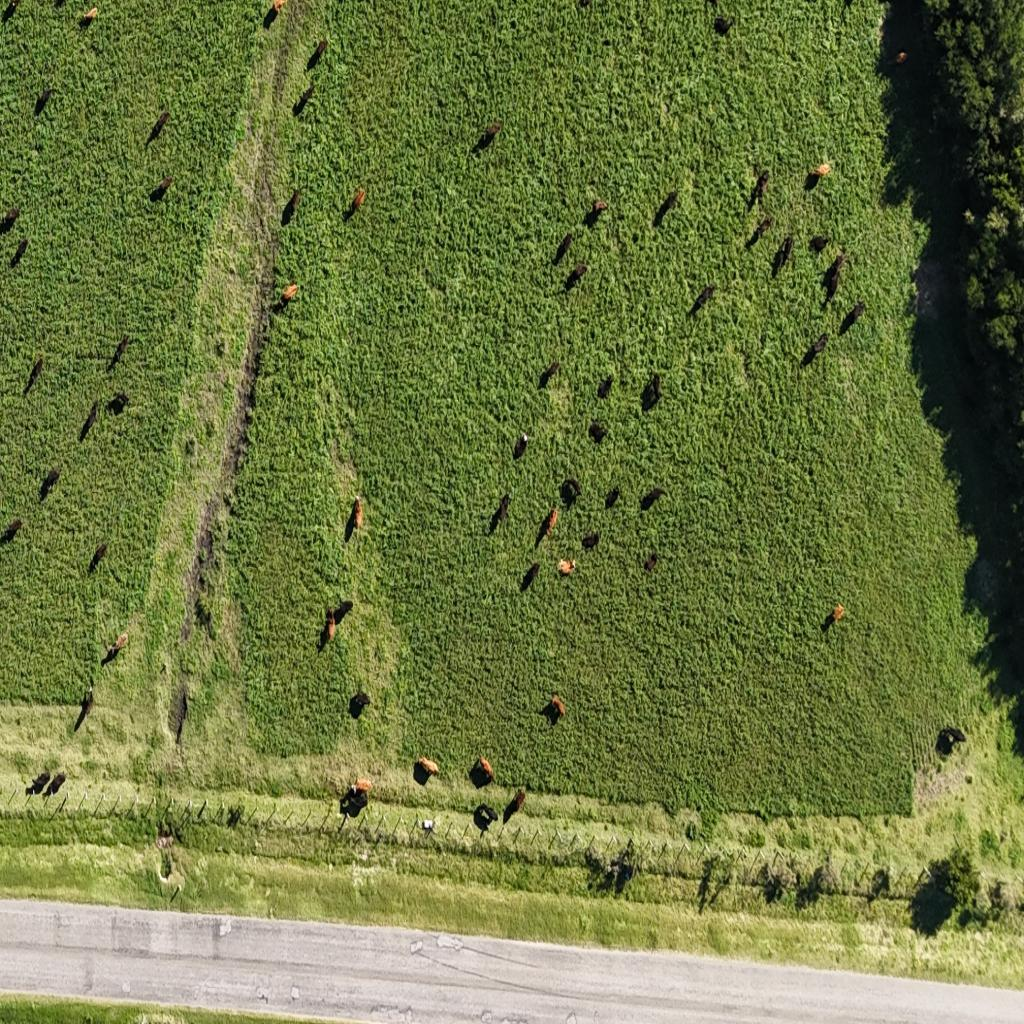cow: (823, 250, 846, 298), (838, 301, 866, 336), (937, 726, 968, 756), (802, 334, 828, 368), (772, 235, 793, 277), (654, 191, 678, 227), (690, 284, 716, 316), (749, 170, 770, 208), (503, 789, 525, 825), (344, 187, 367, 221), (79, 401, 99, 440), (538, 506, 558, 545), (470, 756, 494, 788), (24, 356, 44, 394), (75, 689, 93, 731), (108, 334, 130, 368), (39, 467, 60, 502), (175, 690, 188, 745), (491, 494, 510, 531), (542, 695, 566, 724), (552, 232, 572, 266), (149, 109, 170, 141), (474, 802, 498, 830), (565, 262, 588, 291), (750, 216, 772, 246), (0, 518, 23, 546), (293, 83, 313, 115), (805, 162, 831, 186), (330, 599, 353, 626), (276, 282, 298, 310), (824, 600, 846, 628), (282, 188, 300, 222), (643, 374, 662, 406), (354, 778, 373, 810), (106, 392, 131, 416), (561, 477, 582, 505), (106, 633, 128, 659), (323, 608, 338, 646), (0, 207, 19, 237), (308, 39, 327, 69), (540, 359, 560, 387), (520, 562, 540, 590), (416, 754, 439, 778), (90, 541, 109, 570), (29, 771, 51, 796), (338, 787, 354, 821), (36, 86, 54, 115), (152, 176, 172, 202), (480, 123, 500, 149), (350, 692, 370, 718), (265, 2, 285, 28), (11, 237, 28, 267), (46, 772, 66, 797), (350, 494, 363, 532), (644, 487, 667, 508), (713, 16, 734, 38), (588, 197, 608, 219), (589, 421, 608, 444), (2, 1, 21, 24), (513, 431, 528, 459), (596, 376, 612, 401), (809, 235, 830, 254), (79, 5, 98, 26), (581, 530, 599, 552), (558, 555, 578, 574), (645, 552, 660, 574), (605, 487, 619, 509), (578, 0, 592, 10)
